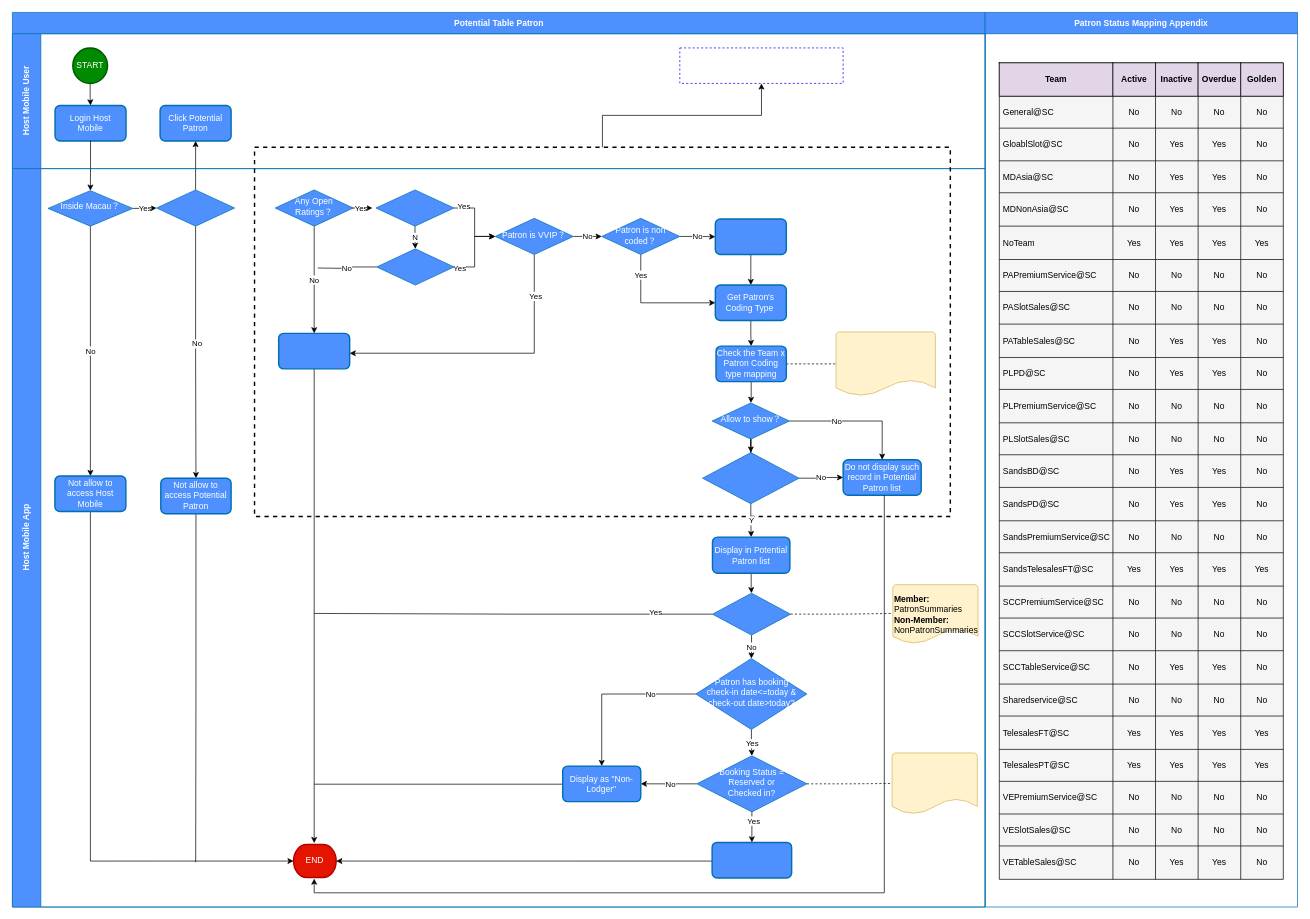
Image size: 1310x919. Some labels were removed from this diagram. Each missing label, with the centre of its shape:
Average Bet > X？: [414,207]
Chip In > Y？: [415,266]
Coding Type Mapping: 1.Active 2.Inactive 3.Overdue 4.Golden: [885,363]
Display as "Lodger": [751,859]
Do not display such record in Potential Patron: [314,350]
Get Patron's coded sale's team: [750,236]
Inside Property？: [195,207]
Lodger: LodgeStatus=true Non-Lodger: LodgeStatus=false: [934,783]
Loop for each open rating record: [761,65]
Patron is Non-Member?: [751,613]
User's property includes Open rating's property？: [750,478]
